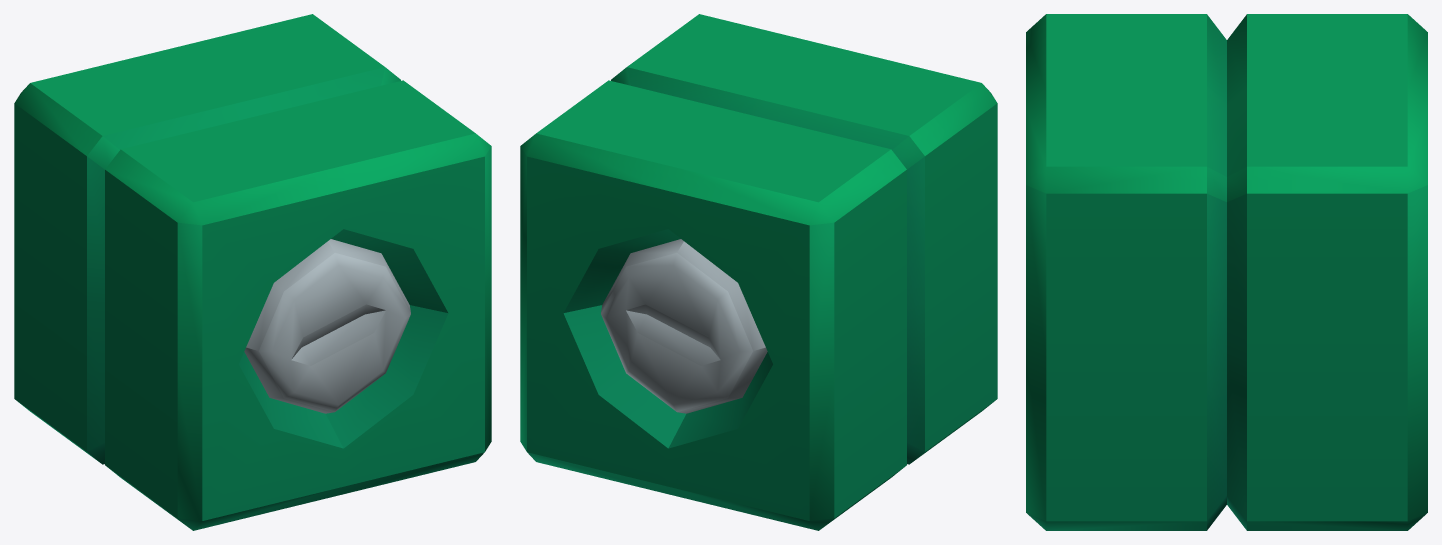
File: kaykit_platform_decorative_1x1x1_green.glb
3 views of the same model, side by side, from view 1: azimuth 30°, elevation 25°; view 2: azimuth 150°, elevation 25°; view 3: azimuth 270°, elevation 25° (orthographic). The views are drawn at different scales.
Visible parts, largest first — view 1: platform_decorative_1x1x1_green_visual; view 2: platform_decorative_1x1x1_green_visual; view 3: platform_decorative_1x1x1_green_visual.
Boxes of the visible parts, x1=… form: platform_decorative_1x1x1_green_visual: x1=14, y1=14, x2=491, y2=530; platform_decorative_1x1x1_green_visual: x1=520, y1=14, x2=997, y2=530; platform_decorative_1x1x1_green_visual: x1=1026, y1=14, x2=1427, y2=530.
Size of what is drawn, in the model's own units: 1 by 1 by 1.
1 material, 1 textured.
